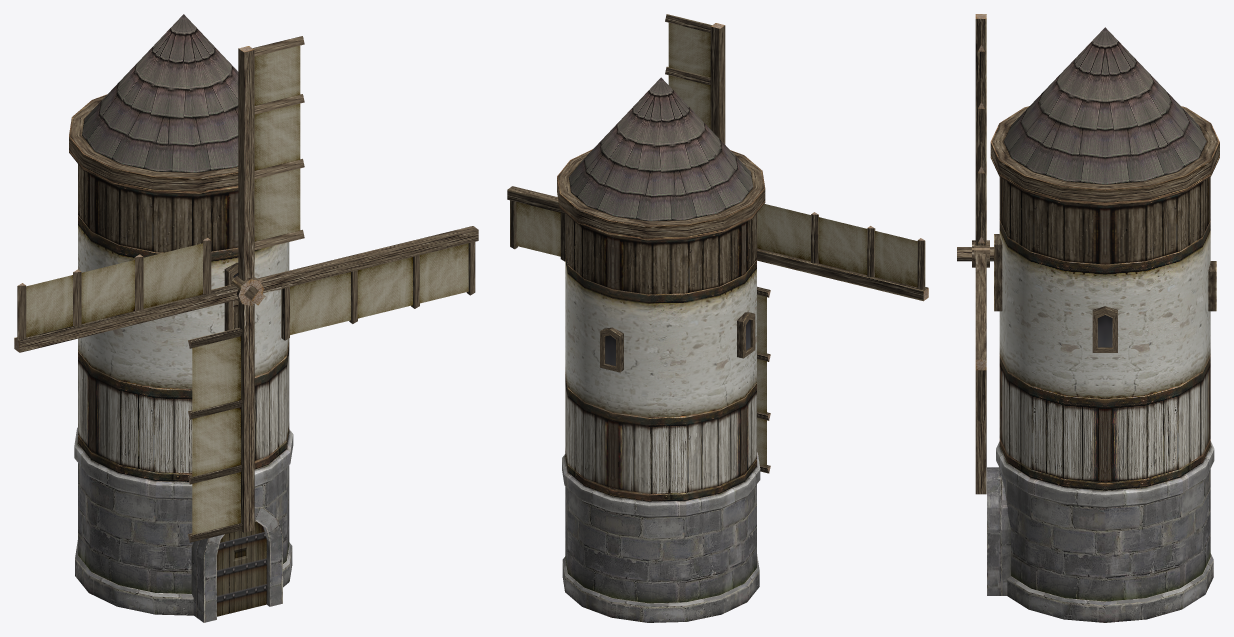
The model's file is Windmill.FBX.
3 renders of one model, left to right at view 1: azimuth 30°, elevation 25°; view 2: azimuth 150°, elevation 25°; view 3: azimuth 270°, elevation 25°, orthographic. The views are drawn at different scales.
Visible parts, largest first — view 1: Windmill, WindmillWing; view 2: Windmill, WindmillWing; view 3: Windmill, WindmillWing.
Boxes of the visible parts, box(x1,y1,x2,y2) form: Windmill: box(69, 14, 293, 622); WindmillWing: box(14, 36, 478, 542); Windmill: box(557, 77, 765, 622); WindmillWing: box(507, 14, 928, 473); Windmill: box(987, 27, 1219, 622); WindmillWing: box(957, 14, 993, 494).
Bounding box in the file's own units: 1492 × 1760 × 748.
